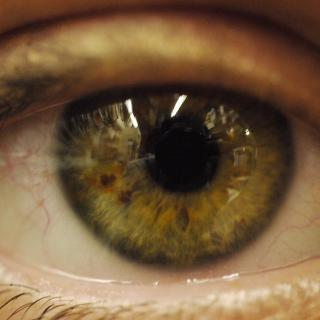pupil: (145, 117, 220, 192)
